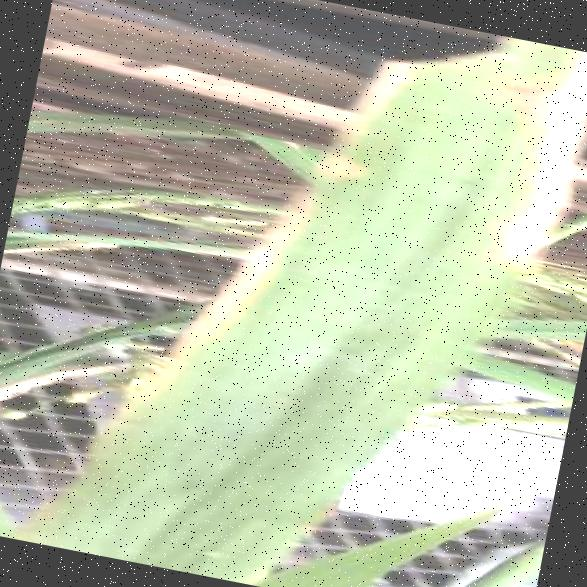Bacteria_Leaf_Blight: (285, 7, 587, 446)
